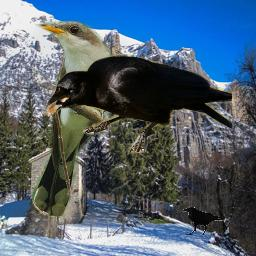Crow: (43, 54, 232, 154), (182, 207, 225, 235)
Cuckoo: (32, 21, 118, 217)
